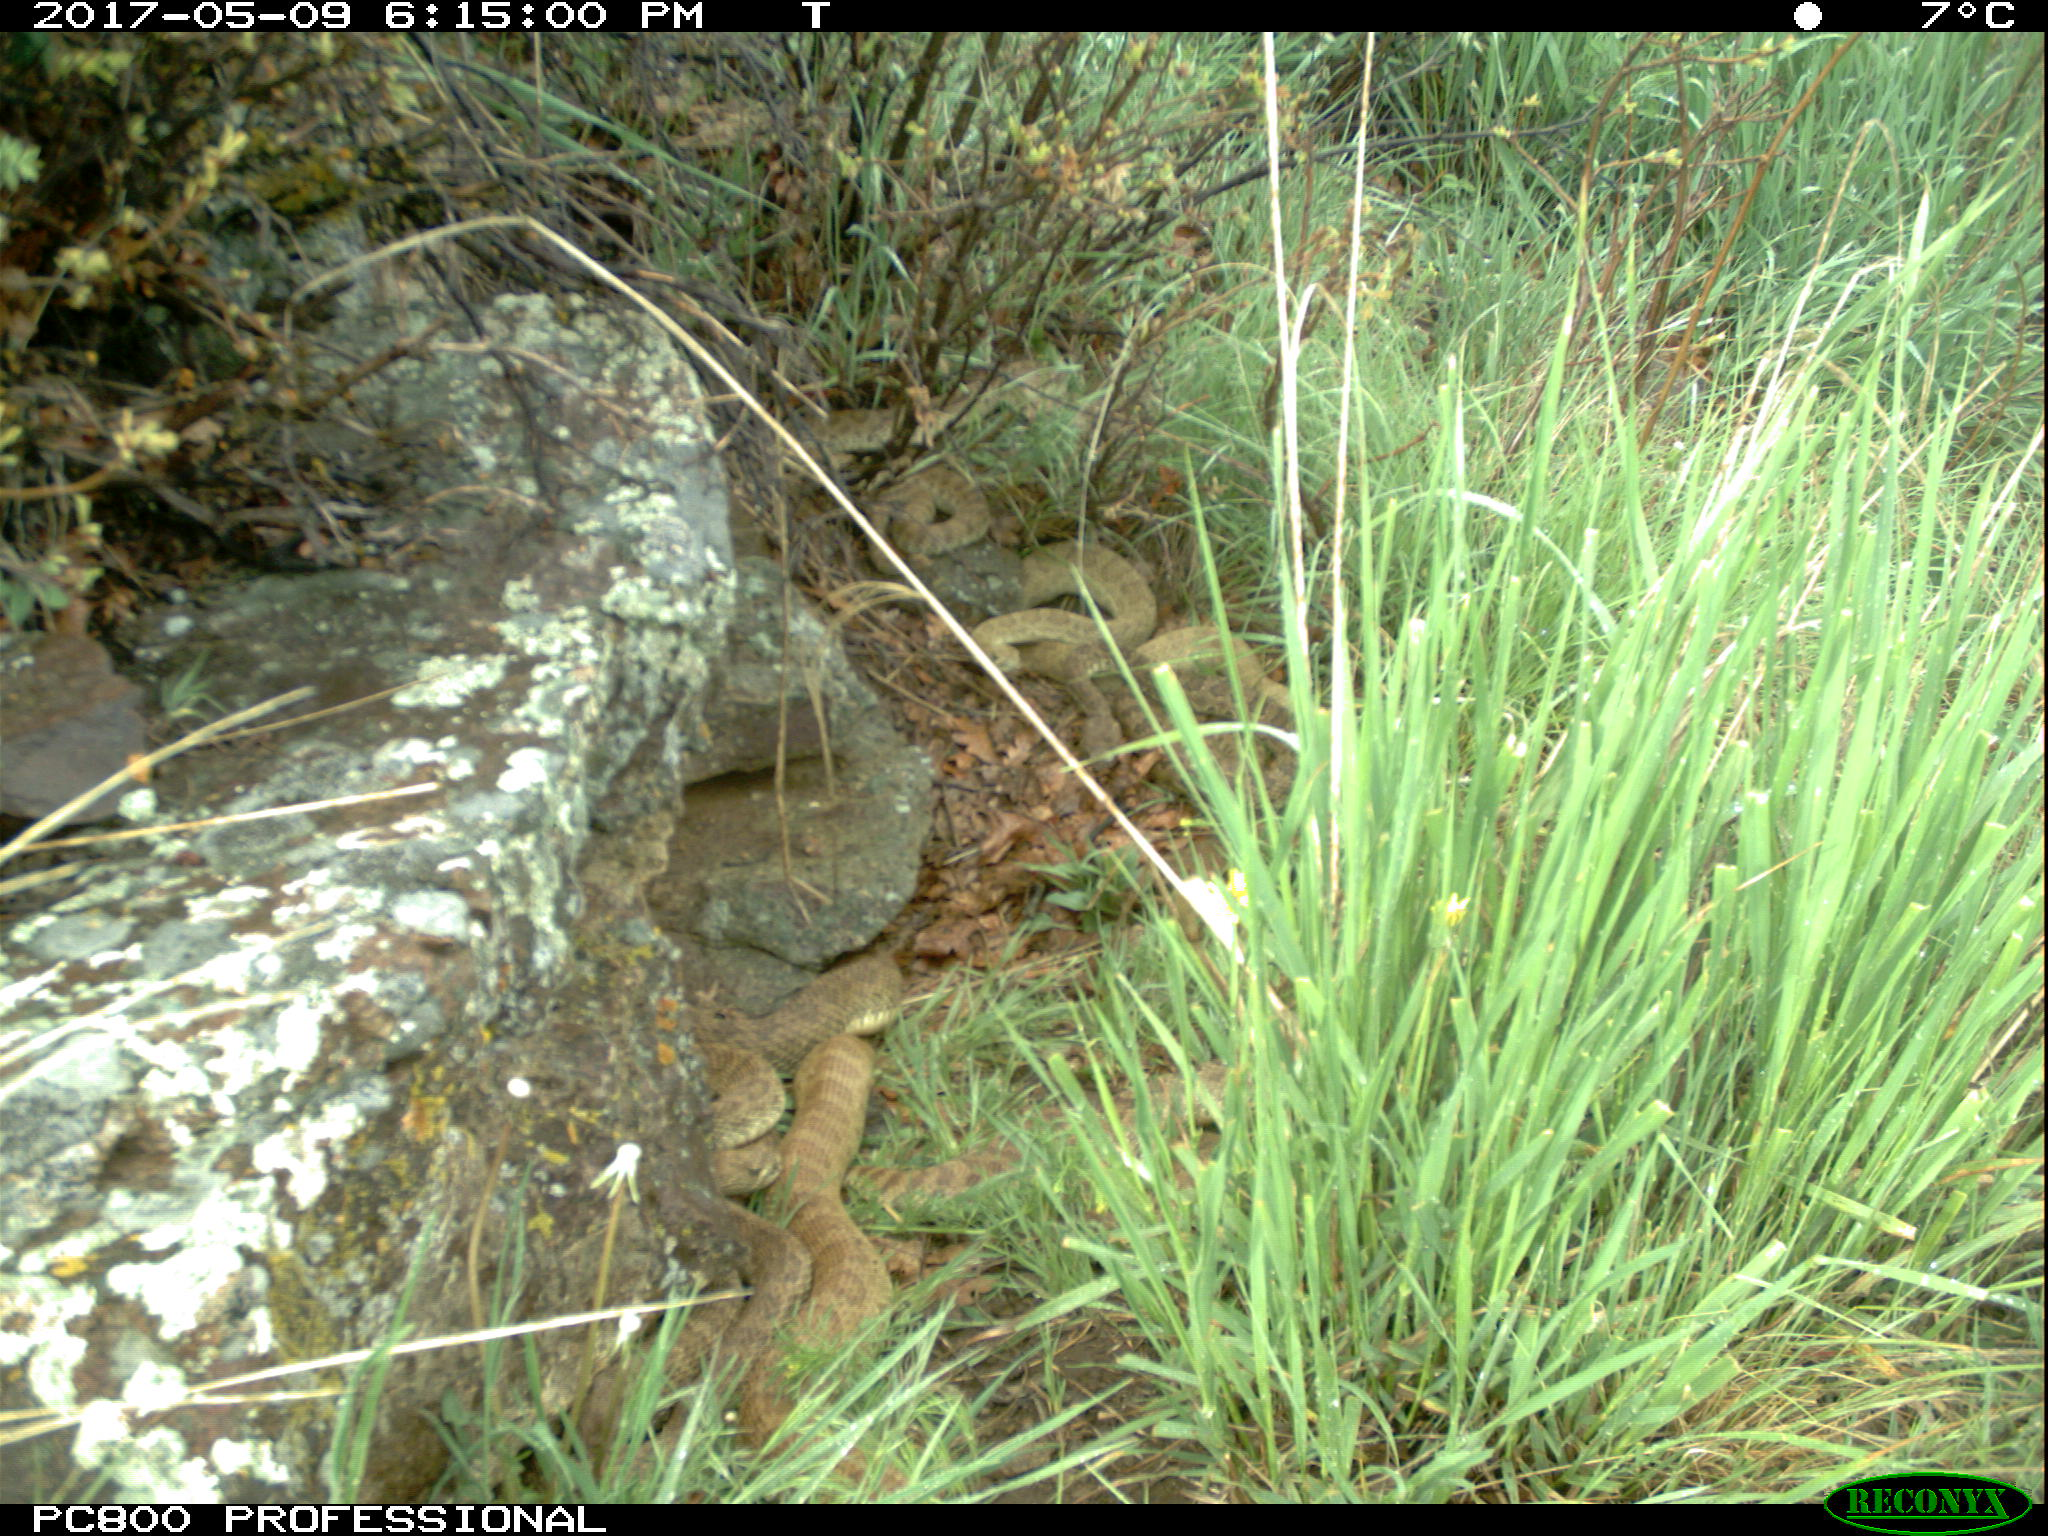snake: (850, 1050, 1237, 1223), (692, 947, 906, 1199), (1056, 629, 1306, 805), (772, 1034, 897, 1375), (805, 399, 997, 565), (698, 1207, 816, 1463), (968, 539, 1161, 674), (1130, 624, 1356, 733)
